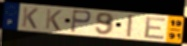9: (94, 12, 117, 37)
E: (143, 16, 168, 40)
I: (126, 14, 135, 39)
K: (21, 6, 40, 30), (44, 8, 63, 32)
P: (69, 9, 93, 34)
